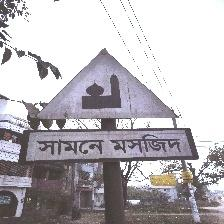Mosque in front: (23, 50, 195, 162)
